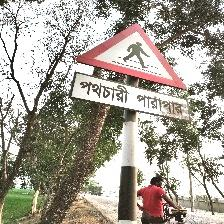Pedestrian-crossing: (70, 22, 193, 121)
